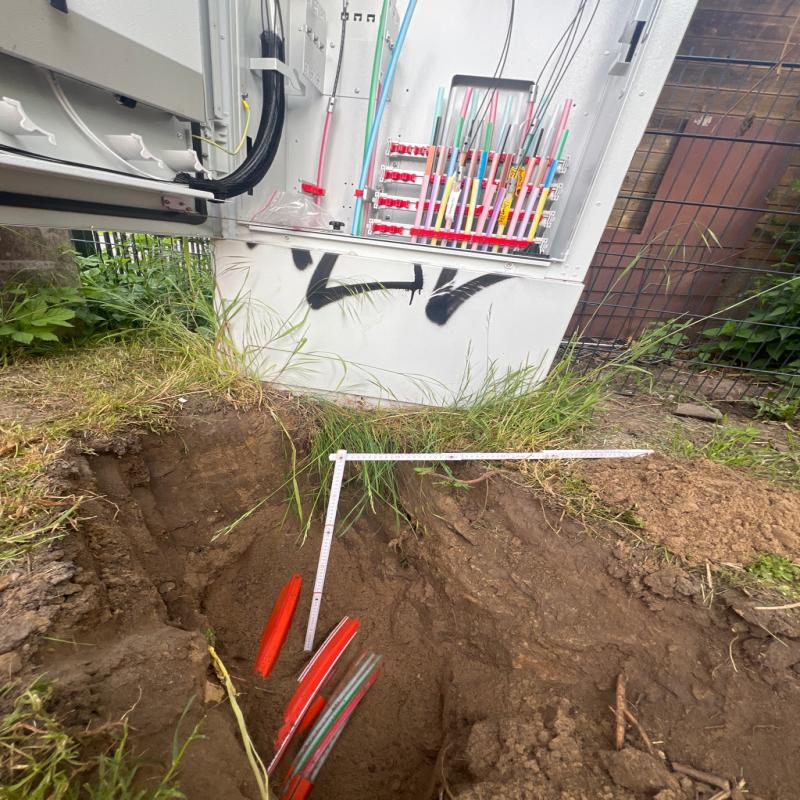NT-Gehause: (0, 0, 703, 407)
Orang-Speednetrohrchen: (270, 616, 355, 770), (256, 574, 300, 676)
